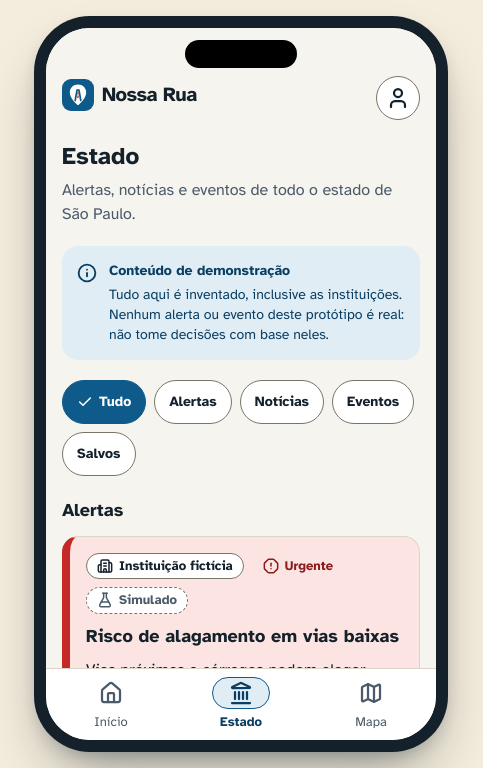
Test: Estado como visitante › o relógio adiantado faz um alerta expirar: some de "Tudo" e vira "Encerrado"
Check: the text "Tempo seco e baixa umidade" is not shown
Click the button "Alertas": [193, 402] box 154,380 -> 232,424
(page scrolled)
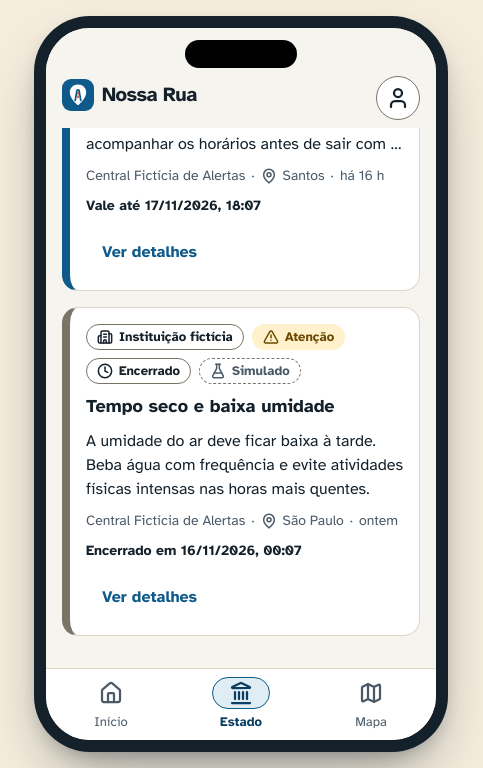
Check: the text "Encerrado" is shown, box 86,358 -> 191,384
Check: the text "Encerrado em 16/11/2026, 00:07" is shown, box 86,542 -> 302,559
